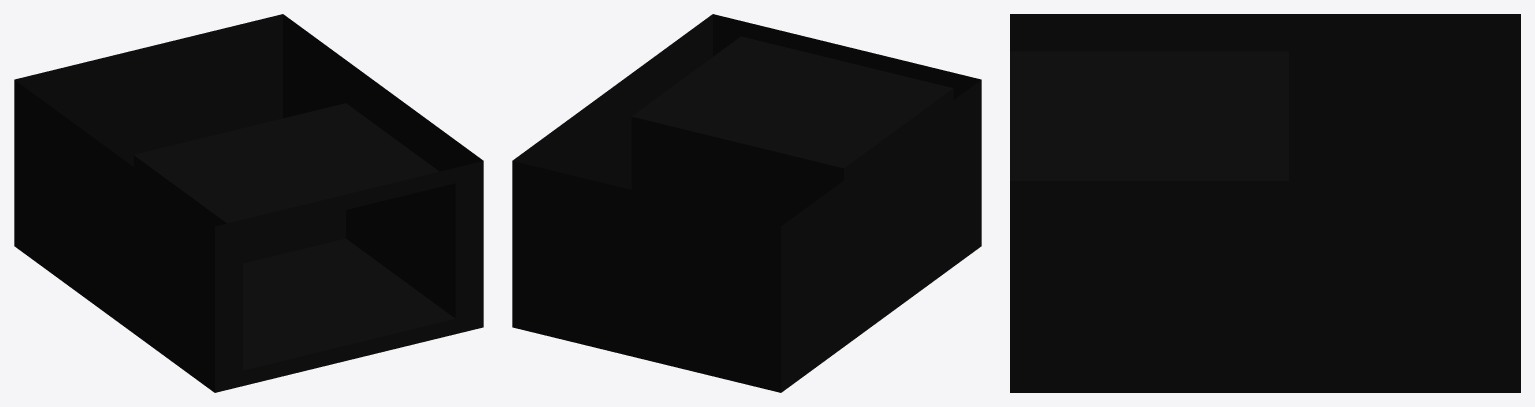
The model's file is Itr_Desk_Drawer_Bottom_05.FBX.
3 views of the same model, side by side, from view 1: azimuth 30°, elevation 25°; view 2: azimuth 150°, elevation 25°; view 3: azimuth 270°, elevation 25° (orthographic). The views are drawn at different scales.
Parts seen in each view (by area): view 1: Itr_Desk_Drawer_Bottom_05; view 2: Itr_Desk_Drawer_Bottom_05; view 3: Itr_Desk_Drawer_Bottom_05.
Part boxes in pixels (bbox=[...]): Itr_Desk_Drawer_Bottom_05: bbox=[14, 14, 483, 392]; Itr_Desk_Drawer_Bottom_05: bbox=[512, 14, 981, 392]; Itr_Desk_Drawer_Bottom_05: bbox=[1010, 14, 1520, 392].
Size of the model in its own units: 18.22 by 10.79 by 23.55.
